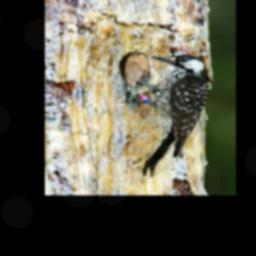Woodpecker: (127, 54, 210, 176)
